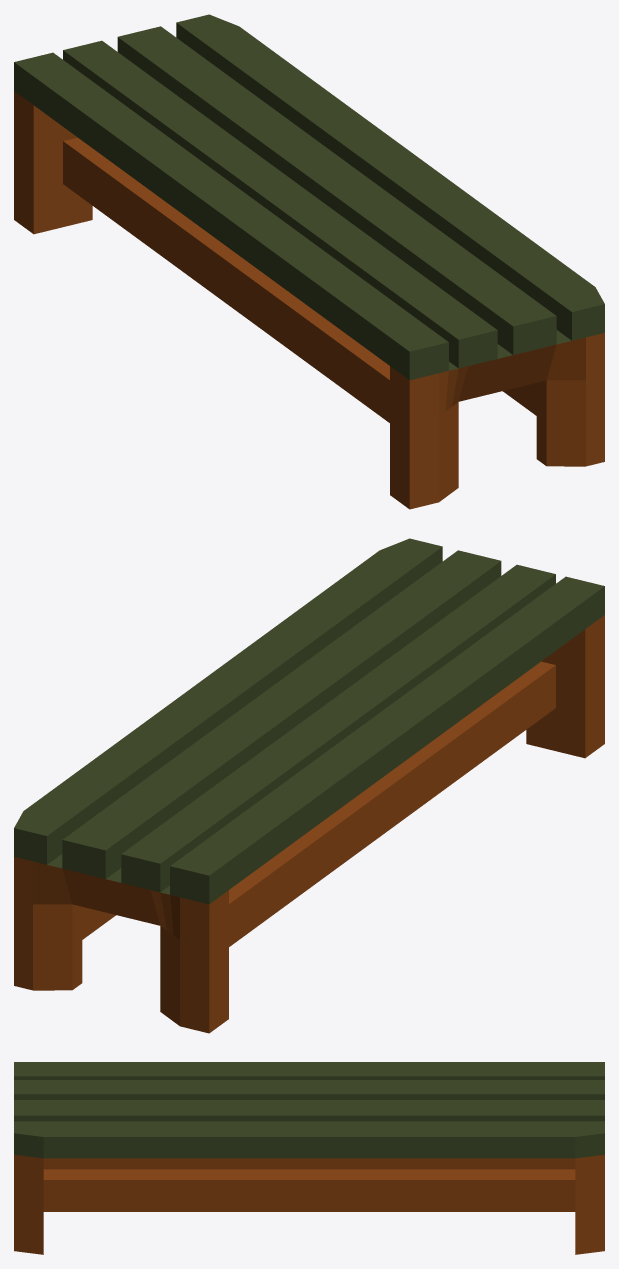
File: ParkTable.fbx
3 renders of one model, top to bottom at view 1: azimuth 30°, elevation 25°; view 2: azimuth 150°, elevation 25°; view 3: azimuth 270°, elevation 25°, orthographic. The views are drawn at different scales.
Visible parts, largest first — view 1: Cube.003; view 2: Cube.003; view 3: Cube.003.
Boxes of the visible parts, left/top/right/bottom form: Cube.003: left=14, top=14, right=604, bottom=509; Cube.003: left=14, top=538, right=604, bottom=1033; Cube.003: left=14, top=1062, right=604, bottom=1254.
Bounding box in the file's own units: 120 × 88 × 400.
